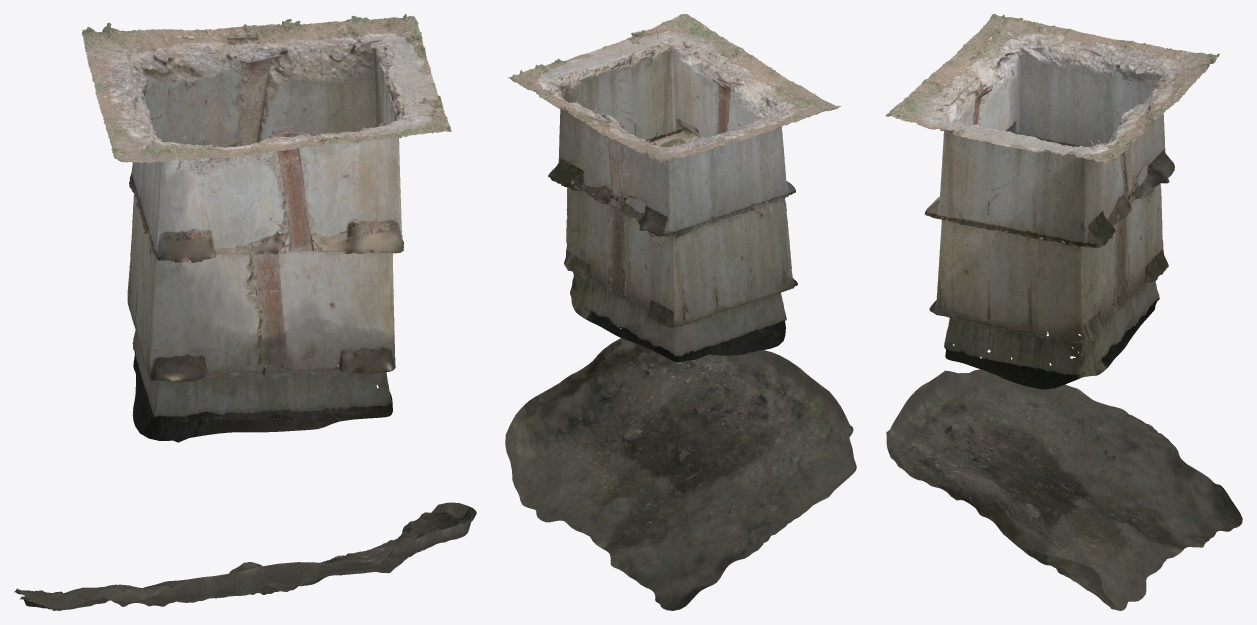
The model's file is manhole.glb.
The picture shows the model from 3 angles, left to right: view 1: azimuth 30°, elevation 25°; view 2: azimuth 150°, elevation 25°; view 3: azimuth 270°, elevation 25°; orthographic projection. The views are drawn at different scales.
Visible parts, largest first — view 1: Model; view 2: Model; view 3: Model.
Boxes of the visible parts, box(x1,y1,x2,y2) form: Model: box(14, 14, 476, 610); Model: box(505, 14, 856, 610); Model: box(885, 14, 1242, 610).
Bounding box in the file's own units: 3.8 × 4.97 × 3.31.
Materials: 3 (3 with a texture image).
